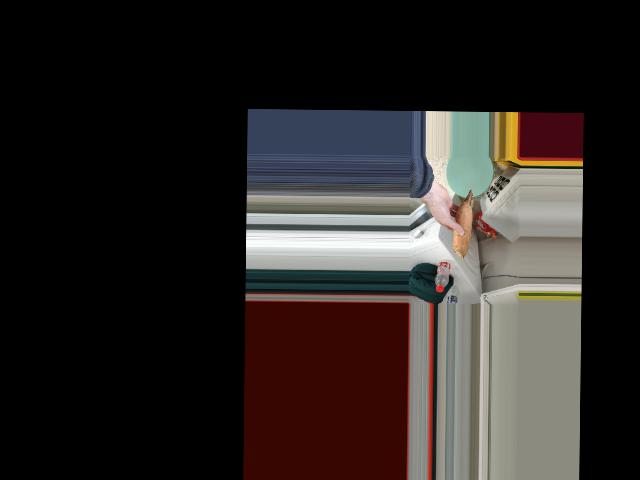sweet_potato: (453, 187, 473, 253)
